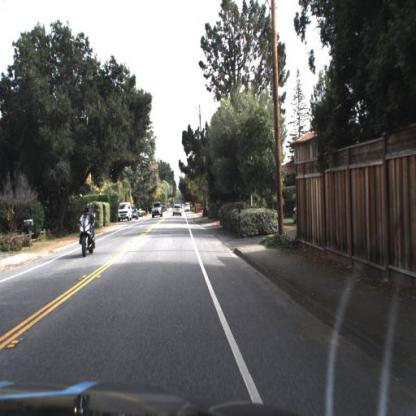biker: (79, 201, 97, 261)
car: (117, 199, 136, 226), (118, 200, 134, 226), (289, 198, 300, 231), (171, 200, 185, 220), (152, 203, 164, 221), (131, 208, 142, 222)
